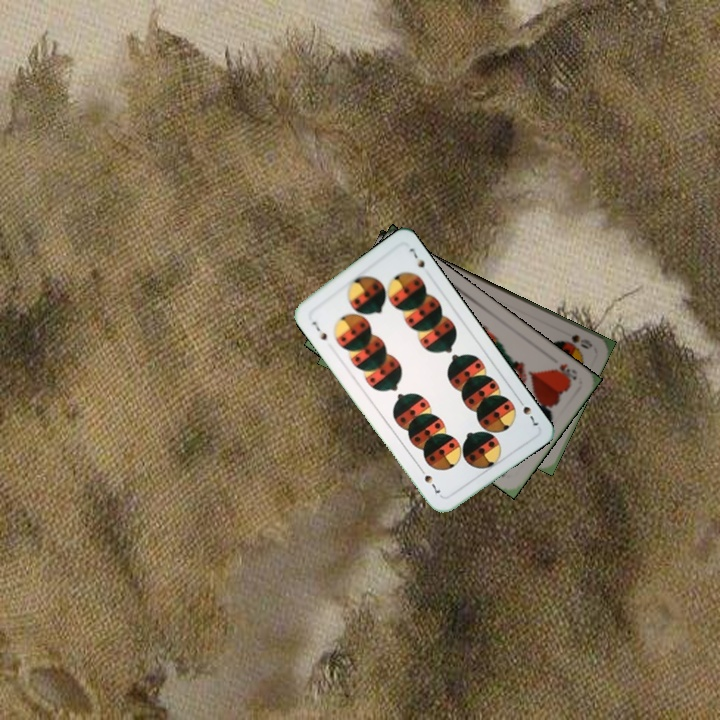HO: (548, 360, 580, 384)
S7: (514, 394, 541, 429), (308, 317, 330, 343)
SO: (567, 330, 595, 352)
